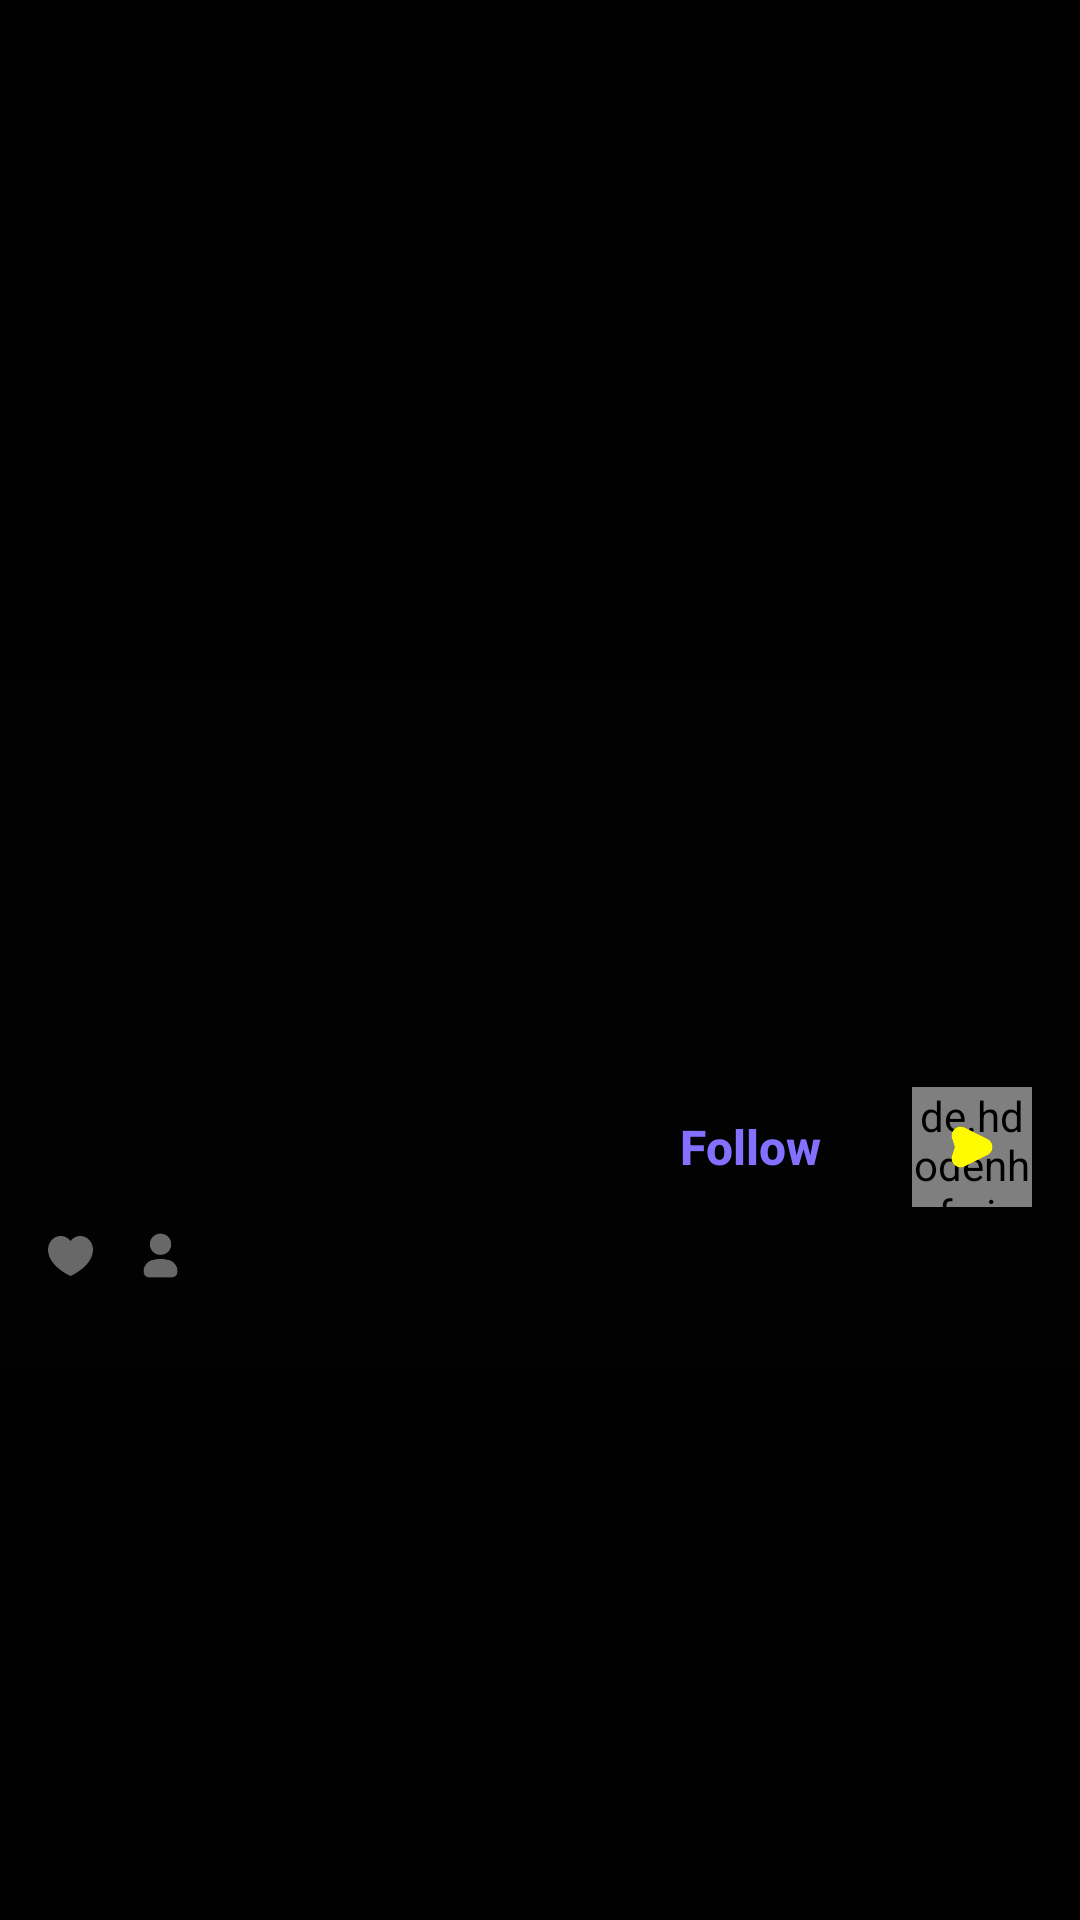

Icon click points for this 1080×1920 phone screenshot, format (x,y):
heart: (70,1256)
profile: (160,1255)
